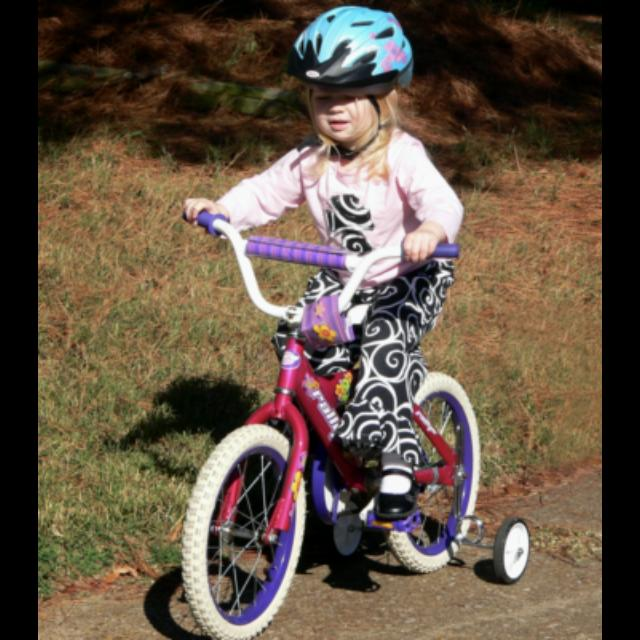With Helmet: (282, 9, 423, 163)
